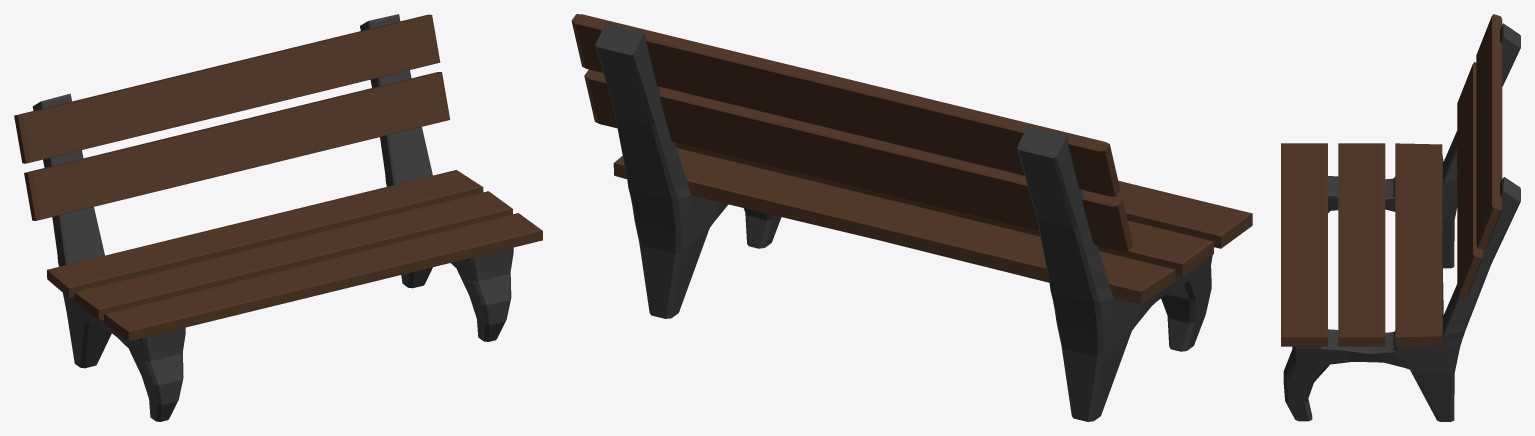
Rendered from City_Assets.fbx.
3 views of the same model, side by side, from view 1: azimuth 30°, elevation 25°; view 2: azimuth 150°, elevation 25°; view 3: azimuth 270°, elevation 25° (orthographic). The views are drawn at different scales.
Parts seen in each view (by area): view 1: Bench; view 2: Bench; view 3: Bench.
Part boxes in pixels (x1,y1,x2,y2): Bench: (14,14,542,421); Bench: (571,14,1252,421); Bench: (1281,14,1520,421).
Bounding box in the file's own units: 1.41 × 0.7958 × 0.7376.
